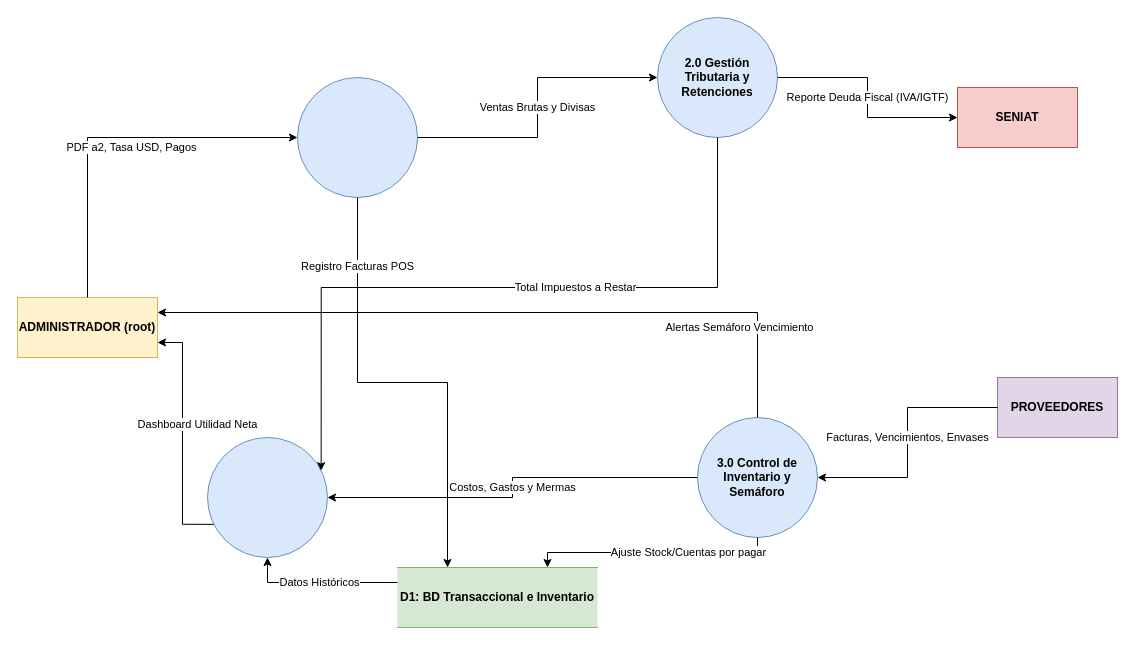
This 1135x645 diagram has some shape labels left out. Each missing label, with the centre of its shape:
"1.0 Gestión de Ventas y Cierres (POS)" belongs at [357,137].
"4.0 Análisis Estratégico y Ganancias" belongs at [267,497].
